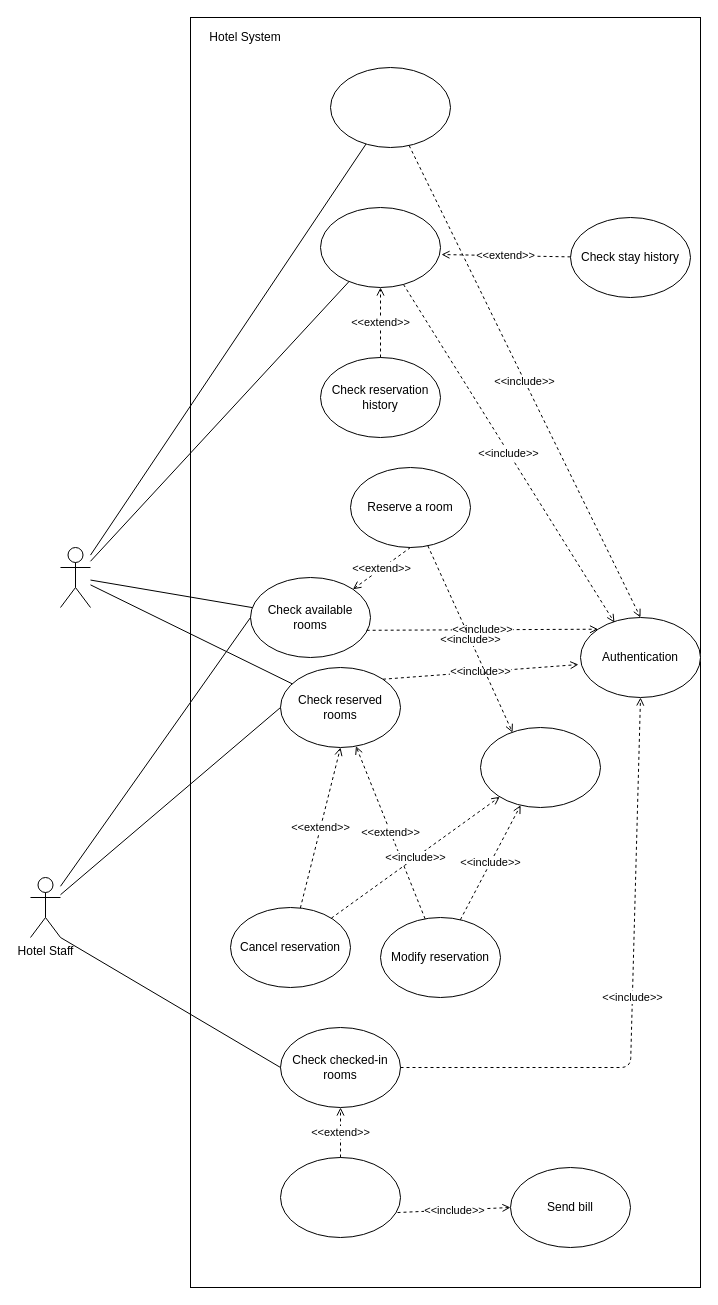
This 718x1305 diagram has some shape labels left out. Here are the shapes that lost their labels. From the top down, the centre of each, then its label:
point (390, 107): Pay bill
point (380, 247): Check history
point (75, 577): Customer
point (540, 767): Save reservation changes
point (340, 1197): End customer's stay
